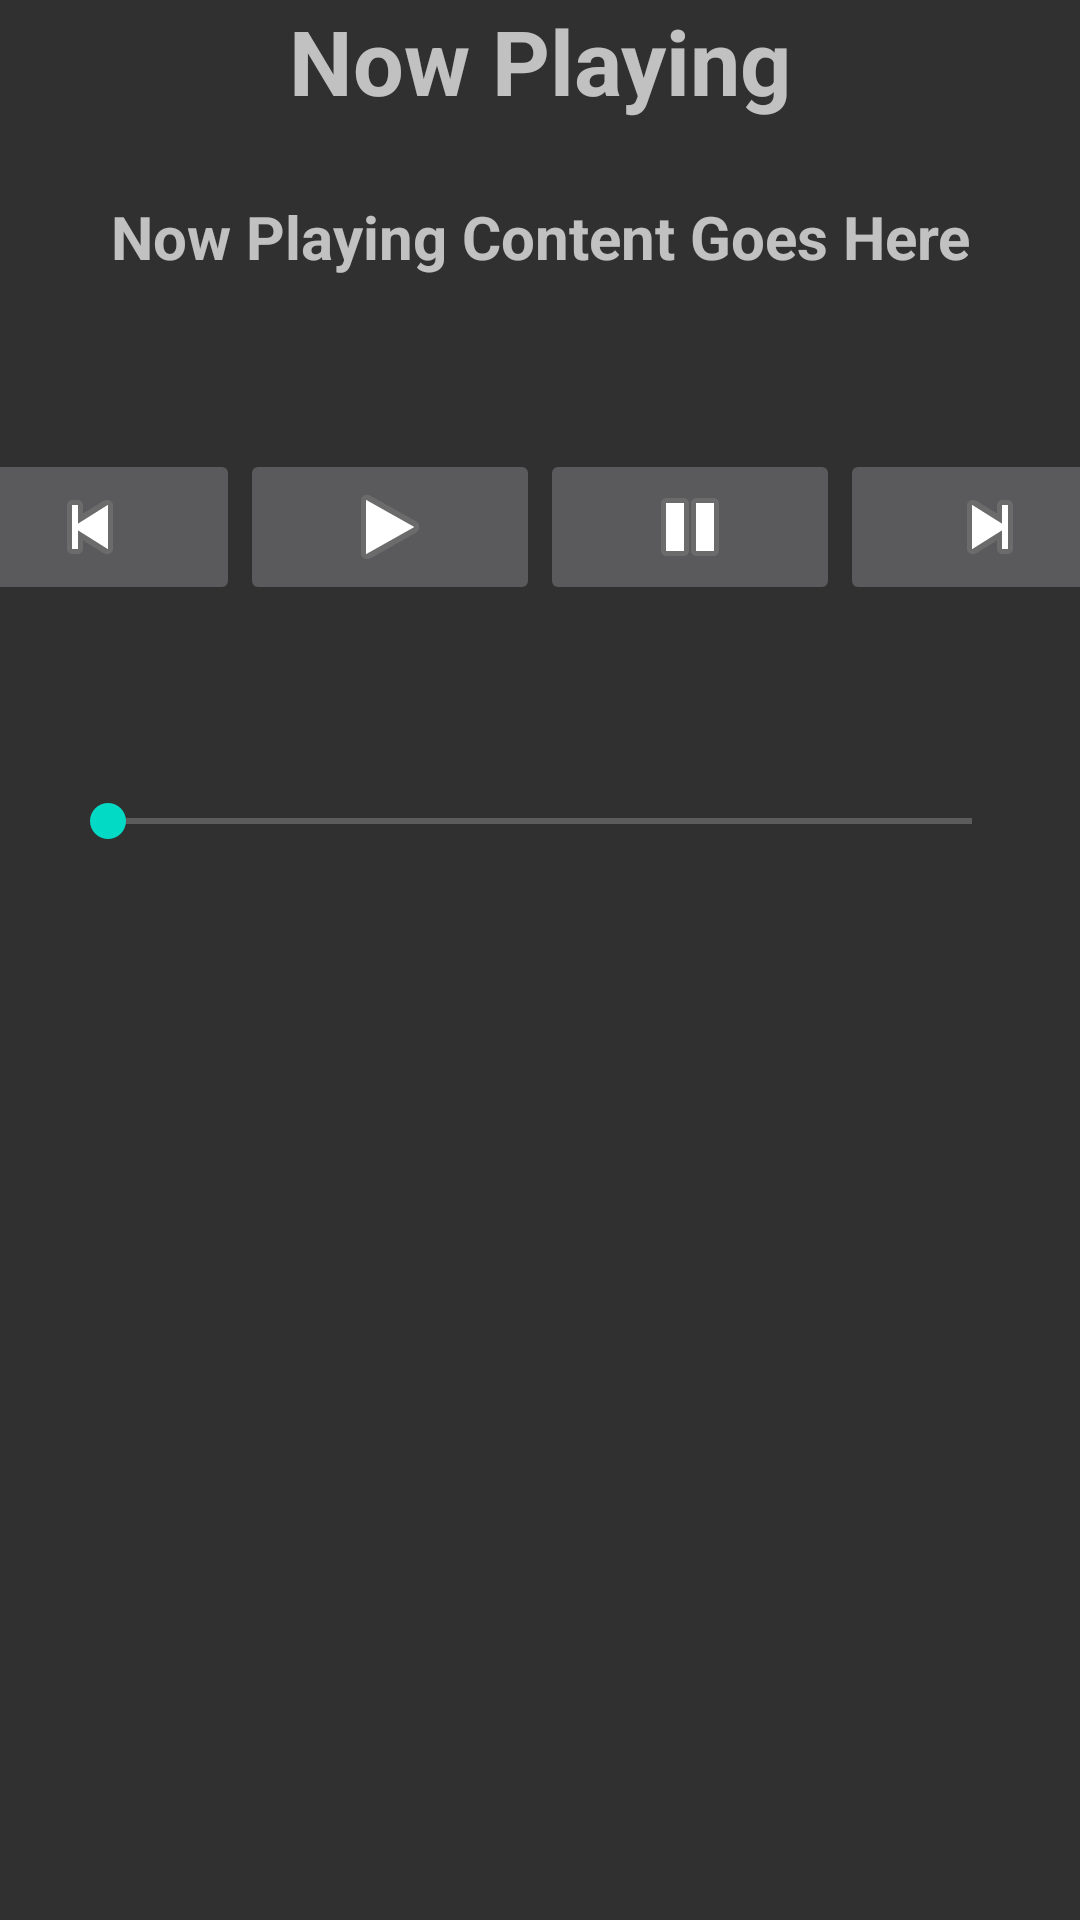

Named icons in this screenshot (1080px x 1920px) and their bounding boxes, bbox=[x1, y1, x2, y2]:
pause: bbox=[552, 467, 828, 587]
play: bbox=[252, 467, 528, 587]
